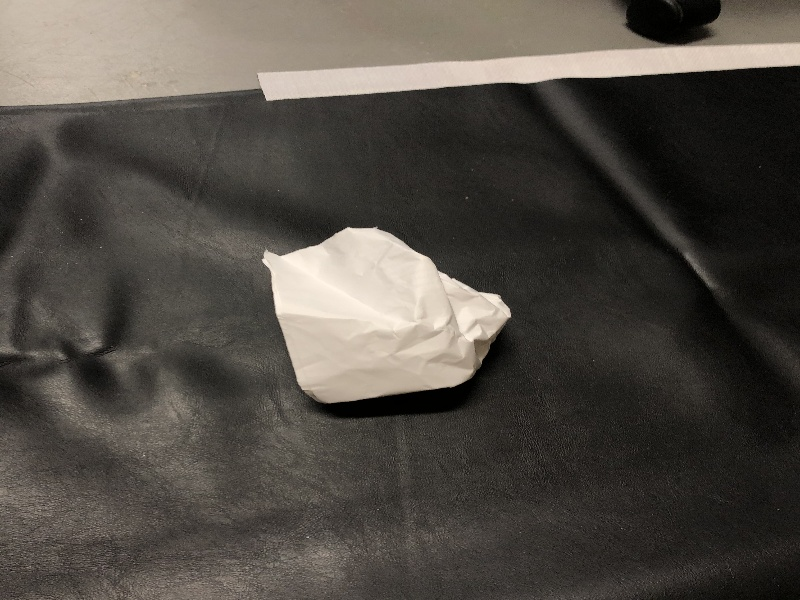paper: (253, 218, 517, 415)
